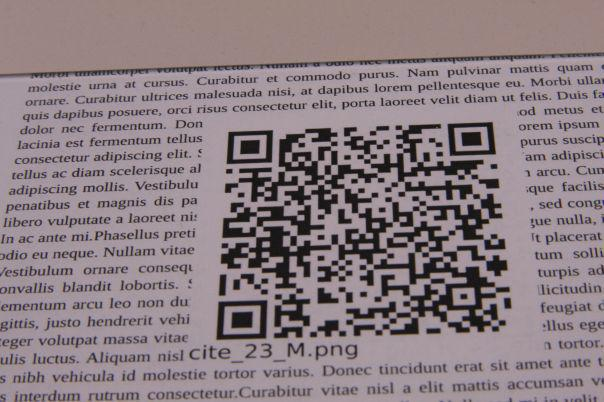Finder pattern: (211, 298, 272, 343), (442, 119, 502, 162), (223, 128, 276, 168)
